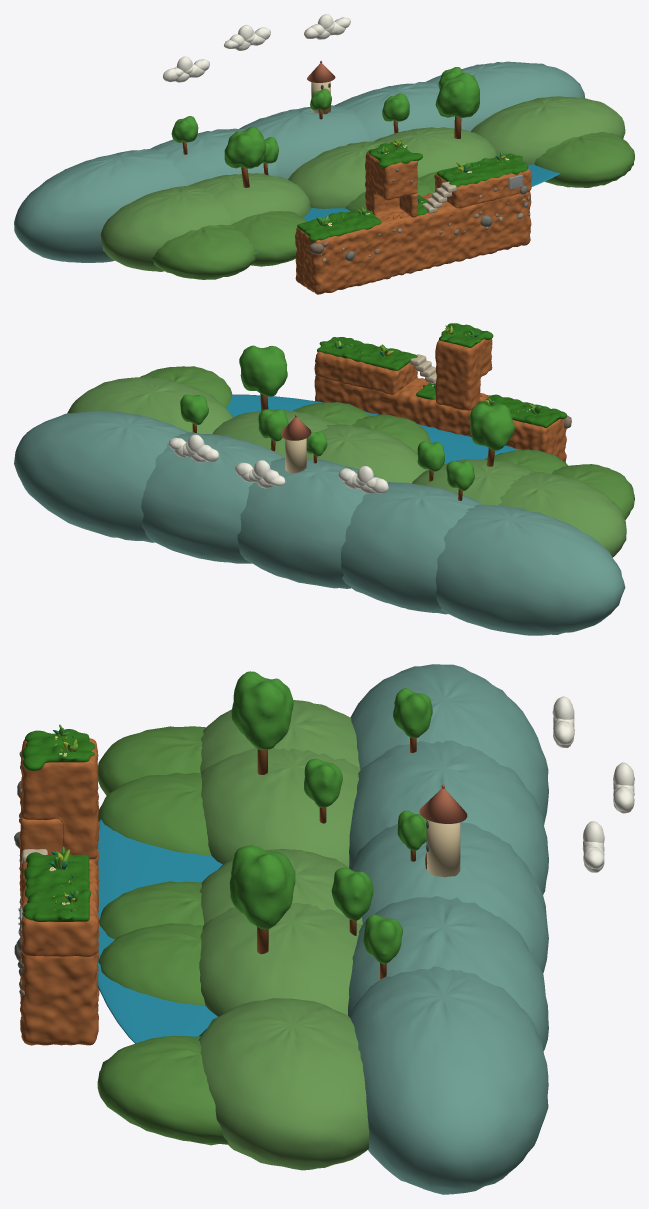
Rendered from clay_reference.glb.
The picture shows the model from 3 angles, top to bottom: view 1: azimuth 30°, elevation 25°; view 2: azimuth 150°, elevation 25°; view 3: azimuth 270°, elevation 25°; orthographic projection. The views are drawn at different scales.
Visible parts, largest first — view 1: Diorama Hill far, Diorama Hill middle, Diorama Earth | hand worked ochre clay, Diorama Hill near, Diorama Leaf fern, Diorama Grass | malachite clay, Diorama Cloud ivory, Diorama Water turquoise clay, Diorama Wood warm; view 2: Diorama Hill far, Diorama Hill middle, Diorama Earth | hand worked ochre clay, Diorama Leaf fern, Diorama Hill near, Diorama Grass | malachite clay, Diorama Cloud ivory, Diorama Water turquoise clay, Diorama Castle warm stone, Diorama Wood warm, Diorama Roof rose; view 3: Diorama Hill far, Diorama Hill middle, Diorama Hill near, Diorama Earth | hand worked ochre clay, Diorama Leaf fern, Diorama Water turquoise clay, Diorama Grass | malachite clay, Diorama Cloud ivory, Diorama Castle warm stone, DigPlug, Diorama Wood warm, Diorama Roof rose.
Part boxes in pixels (x1=…): Diorama Hill far: x1=14, y1=61, x2=584, y2=262; Diorama Hill middle: x1=100, y1=96, x2=625, y2=271; Diorama Earth | hand worked ochre clay: x1=295, y1=151, x2=531, y2=294; Diorama Hill near: x1=152, y1=132, x2=634, y2=279; Diorama Leaf fern: x1=171, y1=67, x2=514, y2=226; Diorama Grass | malachite clay: x1=297, y1=141, x2=528, y2=241; Diorama Cloud ivory: x1=163, y1=14, x2=350, y2=82; Diorama Water turquoise clay: x1=254, y1=164, x2=560, y2=253; Diorama Wood warm: x1=182, y1=109, x2=461, y2=187; Diorama Hill far: x1=14, y1=410, x2=625, y2=635; Diorama Hill middle: x1=67, y1=377, x2=626, y2=557; Diorama Earth | hand worked ochre clay: x1=314, y1=339, x2=566, y2=462; Diorama Leaf fern: x1=180, y1=325, x2=541, y2=490; Diorama Hill near: x1=140, y1=366, x2=634, y2=519; Diorama Grass | malachite clay: x1=317, y1=323, x2=567, y2=427; Diorama Cloud ivory: x1=168, y1=434, x2=388, y2=493; Diorama Water turquoise clay: x1=226, y1=394, x2=521, y2=463; Diorama Castle warm stone: x1=285, y1=438, x2=306, y2=473; Diorama Wood warm: x1=192, y1=393, x2=494, y2=500; Diorama Roof rose: x1=281, y1=414, x2=311, y2=440; Diorama Hill far: x1=348, y1=664, x2=548, y2=1194; Diorama Hill middle: x1=198, y1=700, x2=369, y2=1170; Diorama Hill near: x1=97, y1=726, x2=228, y2=1145; Diorama Earth | hand worked ochre clay: x1=19, y1=738, x2=99, y2=1045; Diorama Leaf fern: x1=54, y1=671, x2=432, y2=964; Diorama Water turquoise clay: x1=98, y1=819, x2=222, y2=1043; Diorama Grass | malachite clay: x1=22, y1=729, x2=95, y2=921; Diorama Cloud ivory: x1=552, y1=696, x2=634, y2=872; Diorama Castle warm stone: x1=426, y1=819, x2=460, y2=877; DigPlug: x1=19, y1=817, x2=63, y2=855; Diorama Wood warm: x1=257, y1=737, x2=427, y2=979; Diorama Roof rose: x1=419, y1=784, x2=467, y2=823.
Size of the model in its own units: 36.38 by 9.6 by 20.63.
